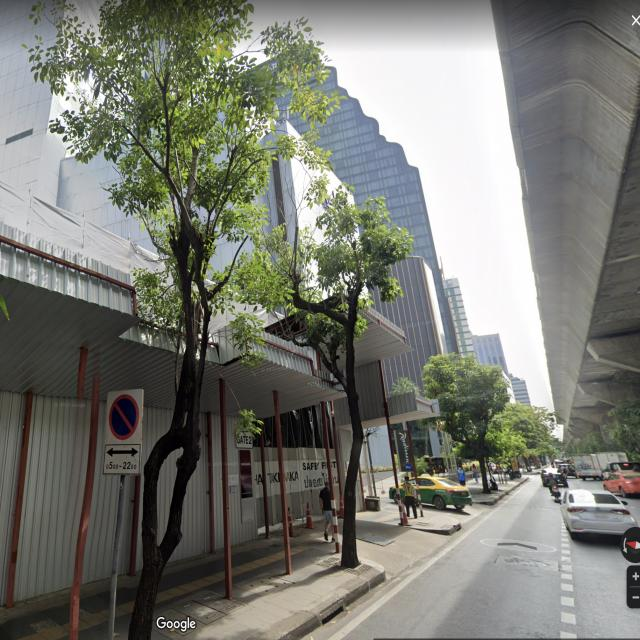tree: (32, 1, 309, 640), (245, 149, 412, 574), (425, 345, 518, 502), (482, 392, 561, 475)
